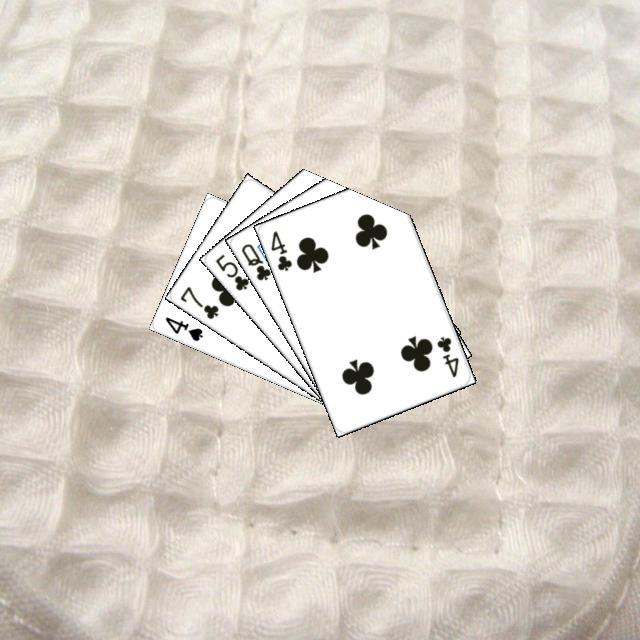4c: (266, 226, 294, 273), (432, 332, 460, 379)
4s: (160, 312, 204, 343)
5c: (210, 249, 251, 292)
7c: (175, 282, 221, 321)
Qc: (236, 238, 280, 282)
